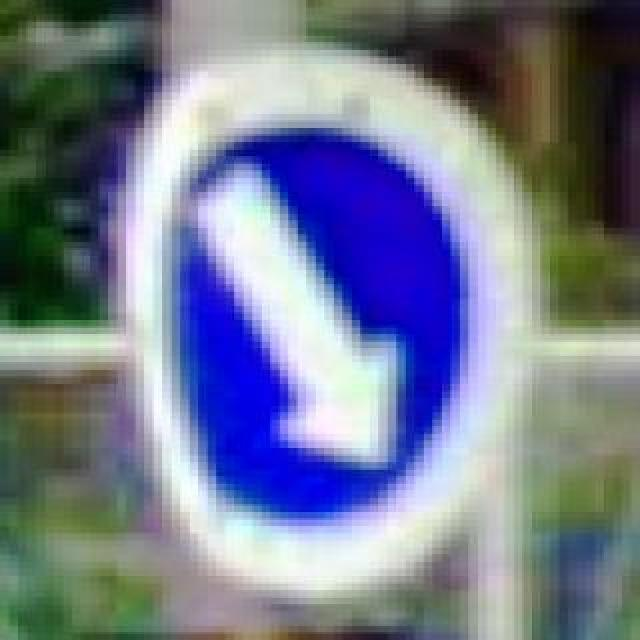keep right: (90, 36, 532, 598)
